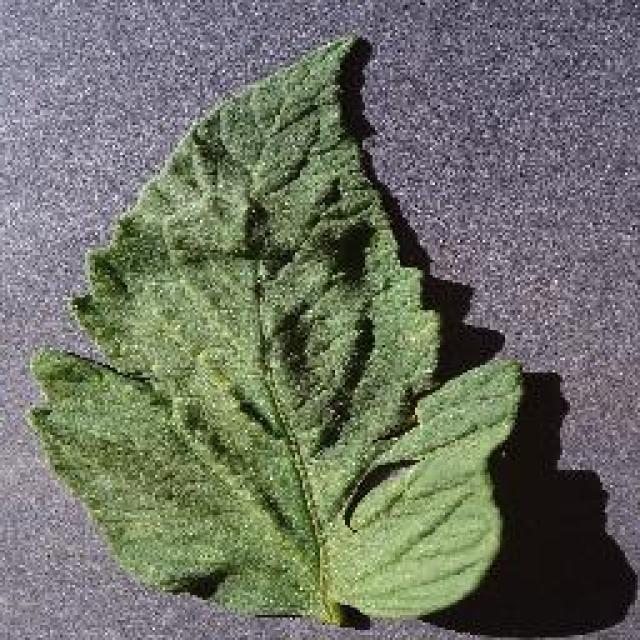Tomato___healthy: (21, 35, 525, 628)
